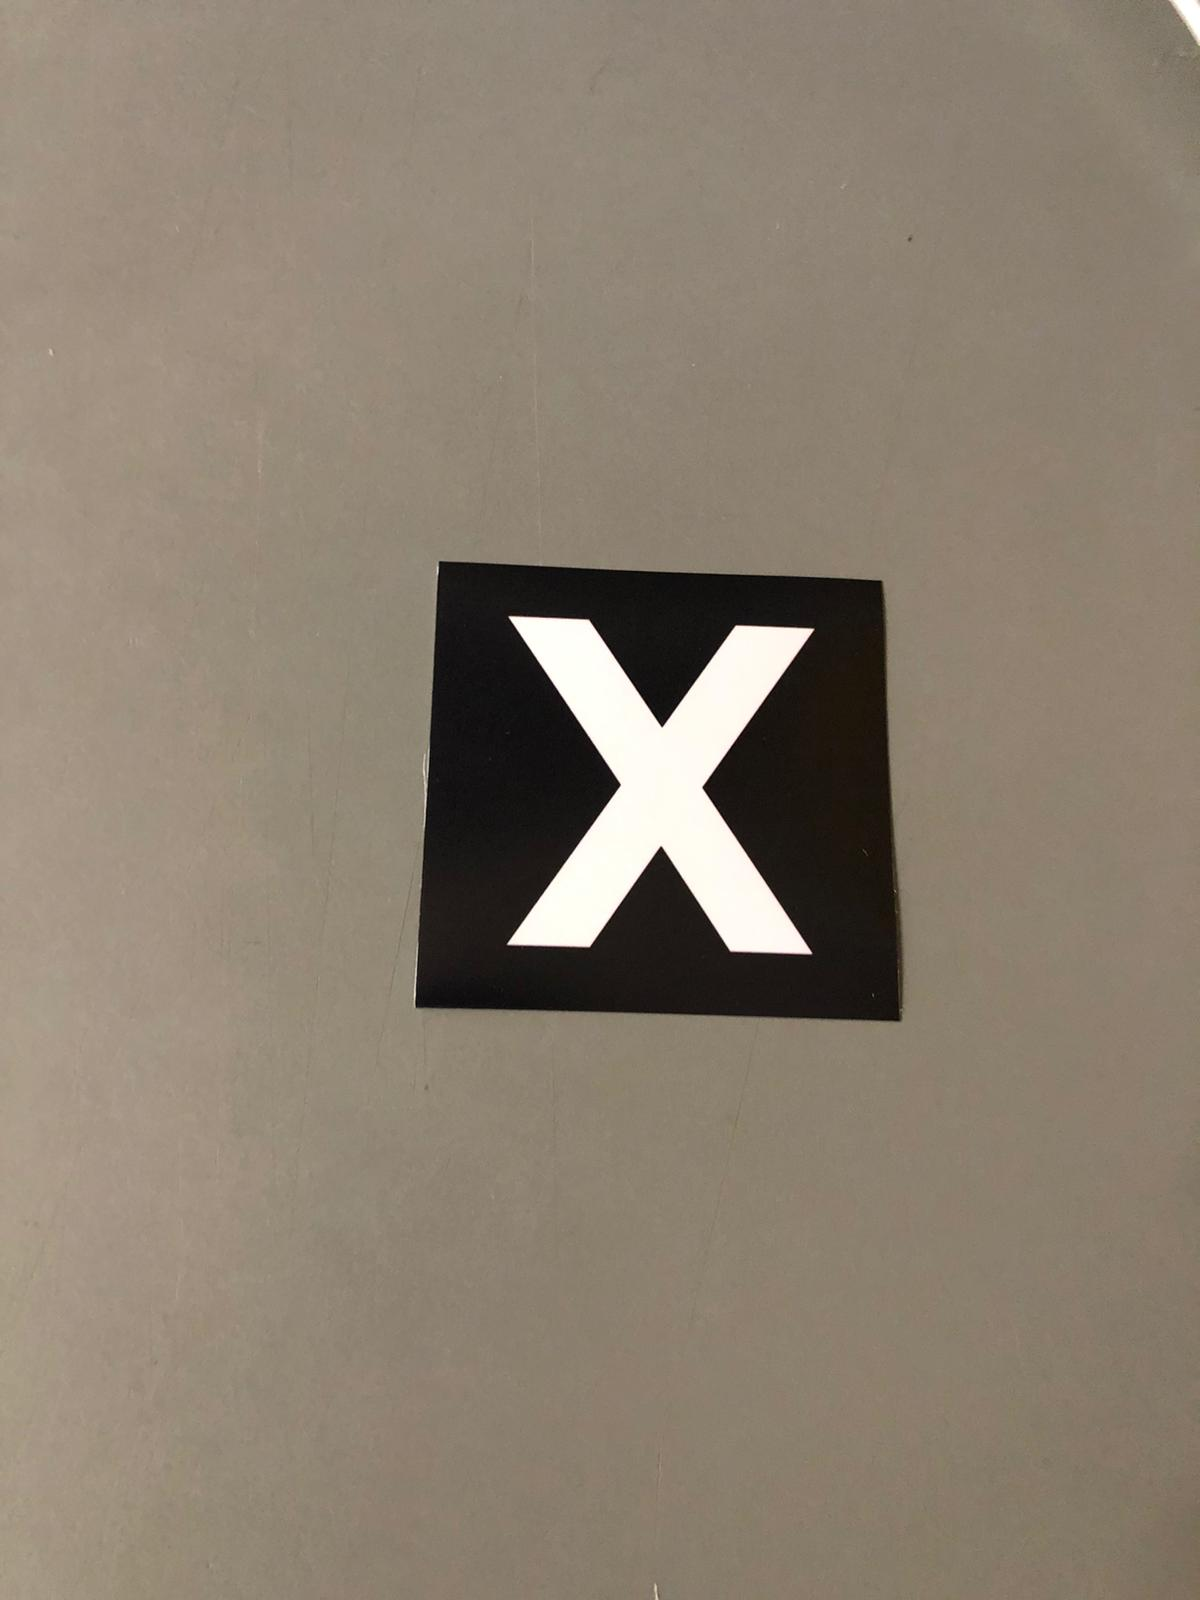X: (437, 581, 848, 1008)
